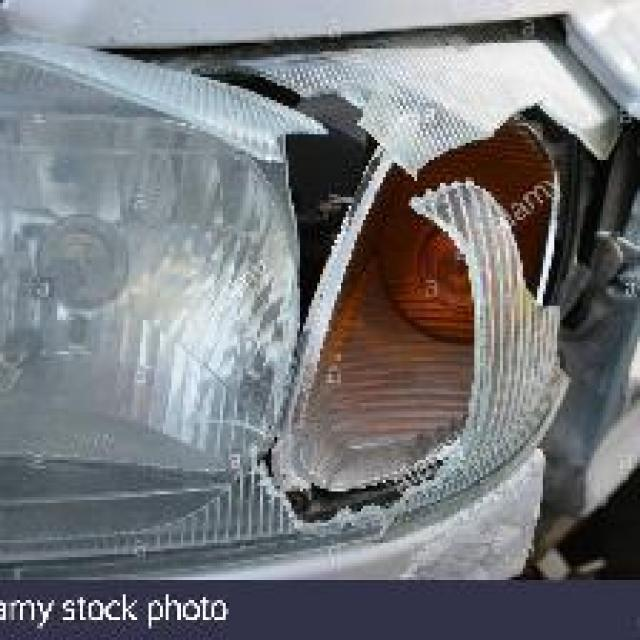damaged: (97, 17, 637, 543)
